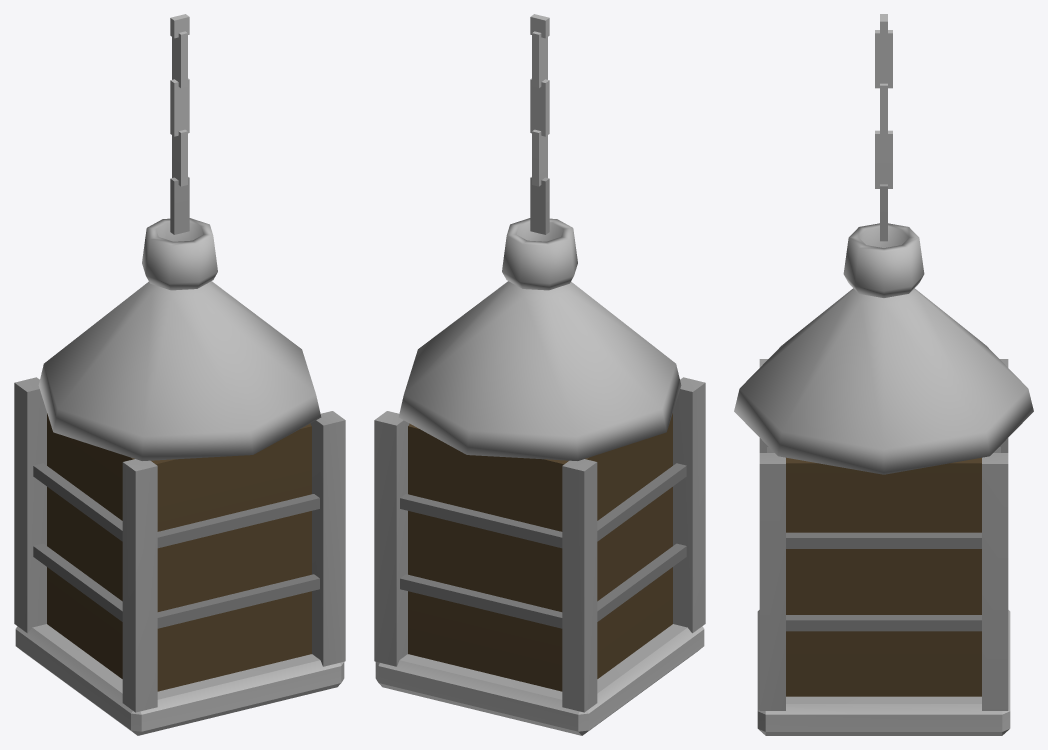
The model's file is hanging_lantern.glb.
3 views of the same model, side by side, from view 1: azimuth 30°, elevation 25°; view 2: azimuth 150°, elevation 25°; view 3: azimuth 270°, elevation 25° (orthographic). The views are drawn at different scales.
Parts seen in each view (by area): view 1: chain_link; view 2: chain_link; view 3: chain_link.
Part boxes in pixels (x1,y1,x2,y2): chain_link: (14, 14, 345, 735); chain_link: (374, 14, 705, 735); chain_link: (734, 14, 1033, 735).
Bounding box in the file's own units: 0.297 × 0.73 × 0.297.
